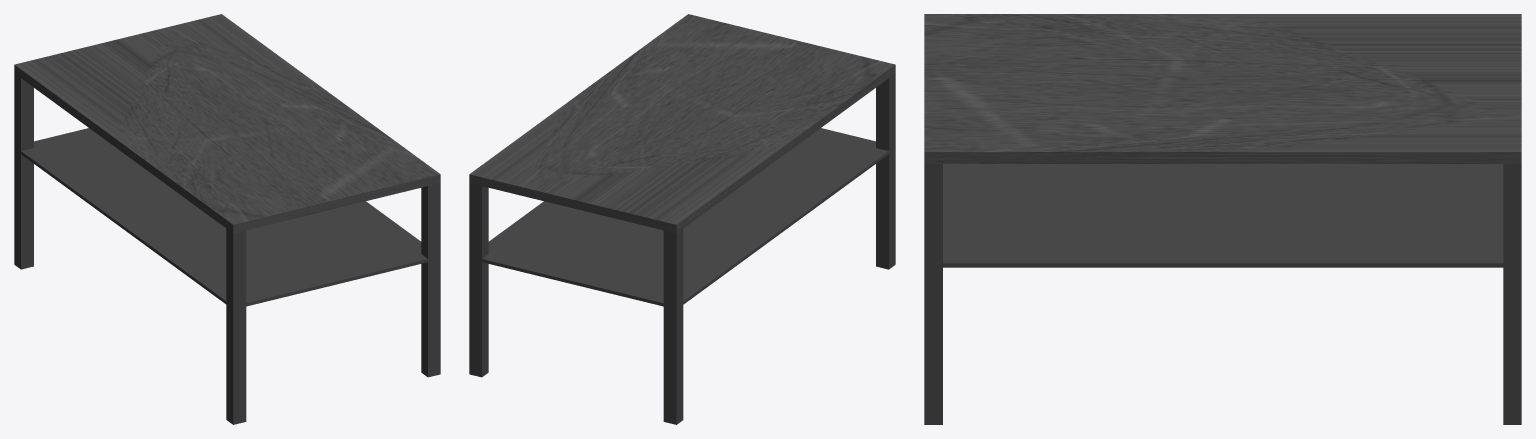
The model's file is table-steel 1.fbx.
3 renders of one model, left to right at view 1: azimuth 30°, elevation 25°; view 2: azimuth 150°, elevation 25°; view 3: azimuth 270°, elevation 25°, orthographic. The views are drawn at different scales.
Visible parts, largest first — view 1: Cube; view 2: Cube; view 3: Cube.
Part boxes in pixels (<box>): Cube: <box>14,14,440,424</box>; Cube: <box>469,14,895,424</box>; Cube: <box>924,14,1521,424</box>.
Bounding box in the file's own units: 200 × 184 × 366.
